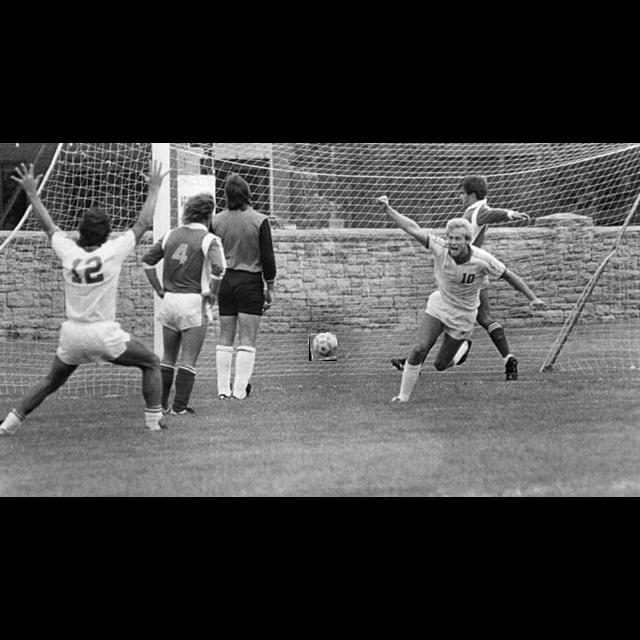Football: (309, 333, 337, 361)
